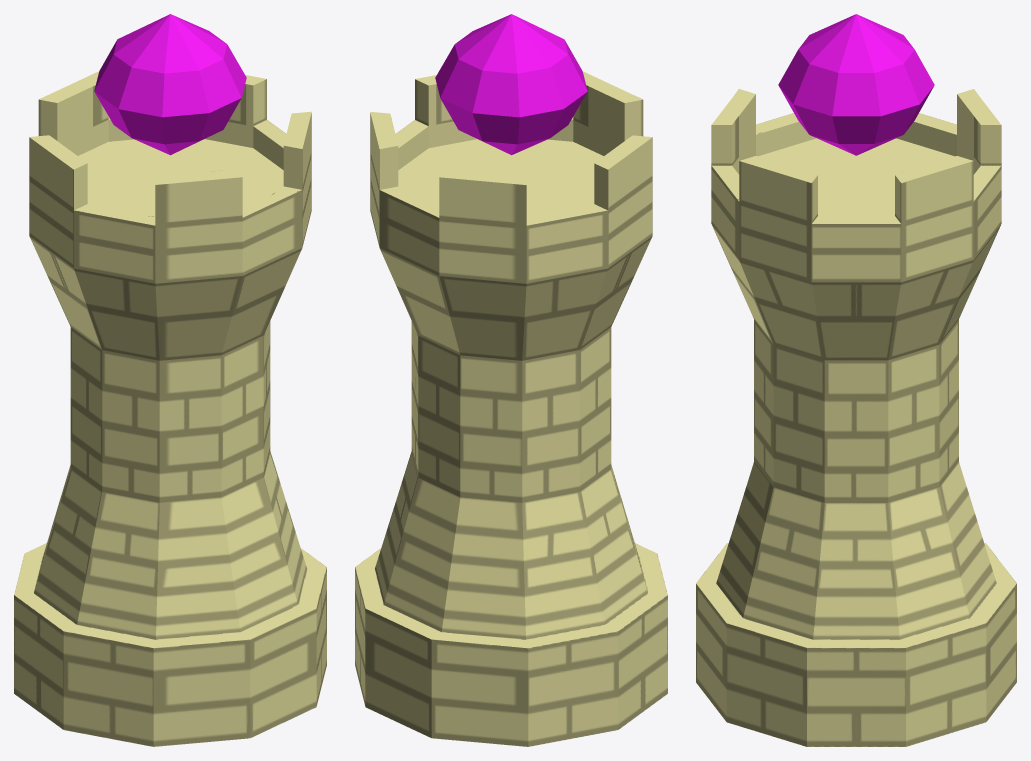
The model's file is MageTower.fbx.
The picture shows the model from 3 angles, left to right: view 1: azimuth 30°, elevation 25°; view 2: azimuth 150°, elevation 25°; view 3: azimuth 270°, elevation 25°; orthographic projection.
Visible parts, largest first — view 1: MageTower, MageCrystal; view 2: MageTower, MageCrystal; view 3: MageTower, MageCrystal.
Part boxes in pixels (left/top/right/bottom): MageTower: left=14, top=71, right=326, bottom=746; MageCrystal: left=94, top=14, right=246, bottom=155; MageTower: left=355, top=71, right=667, bottom=746; MageCrystal: left=435, top=14, right=587, bottom=155; MageTower: left=696, top=89, right=1016, bottom=746; MageCrystal: left=778, top=14, right=934, bottom=155.
Size of the model in its own units: 390 by 942 by 410.
